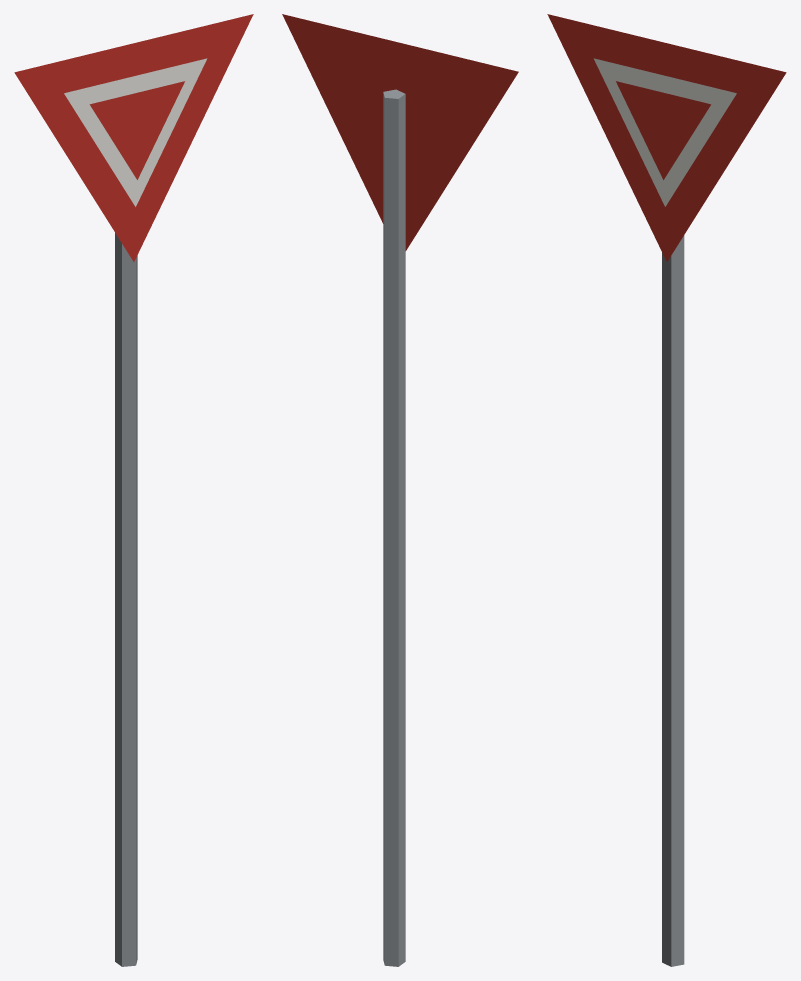
Rendered from stopsign.glb.
3 renders of one model, left to right at view 1: azimuth 30°, elevation 25°; view 2: azimuth 150°, elevation 25°; view 3: azimuth 330°, elevation 25°, orthographic.
Visible parts, largest first — view 1: stopsign; view 2: stopsign; view 3: stopsign.
Part boxes in pixels (<box>): stopsign: <box>14,14,253,966</box>; stopsign: <box>282,14,518,966</box>; stopsign: <box>547,14,786,966</box>.
Size of the model in its own units: 0.8 by 2.95 by 0.0933.
